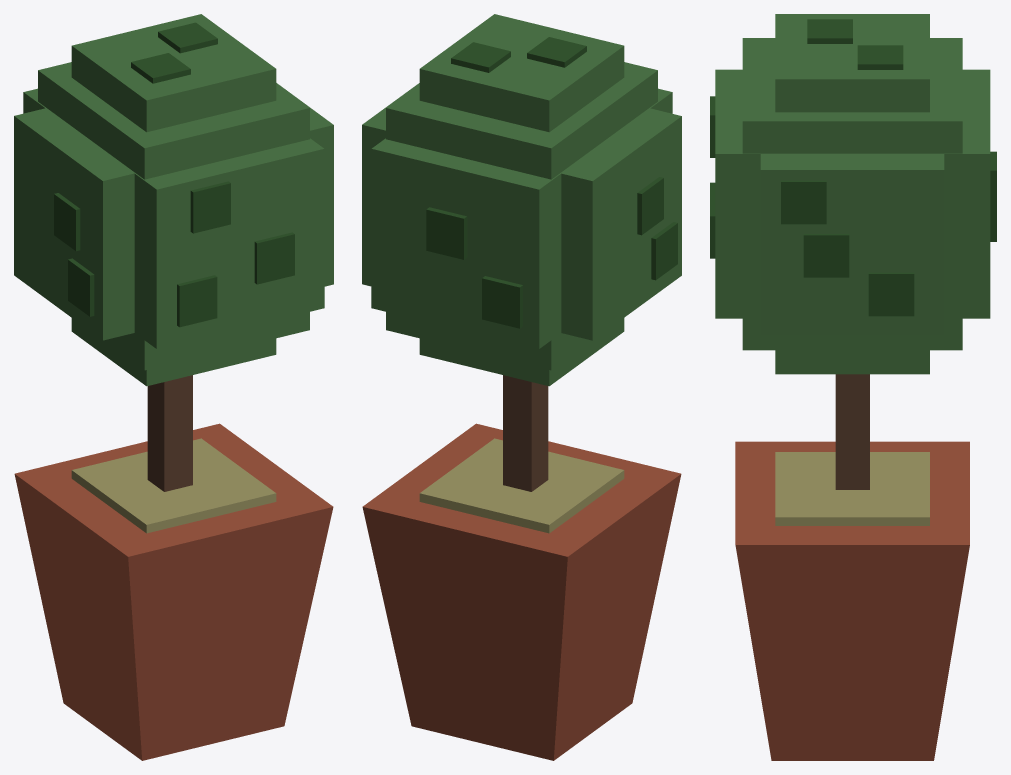
Rendered from scene_plant.fbx.
3 views of the same model, side by side, from view 1: azimuth 30°, elevation 25°; view 2: azimuth 150°, elevation 25°; view 3: azimuth 270°, elevation 25° (orthographic). The views are drawn at different scales.
Parts seen in each view (by area): view 1: mesh_plant; view 2: mesh_plant; view 3: mesh_plant.
Boxes of the visible parts, x1,y1,x2,y2 form: mesh_plant: [14, 14, 333, 760]; mesh_plant: [362, 14, 681, 760]; mesh_plant: [710, 14, 996, 760].
Size of the model in its own units: 0.5698 by 1.52 by 0.5767.
